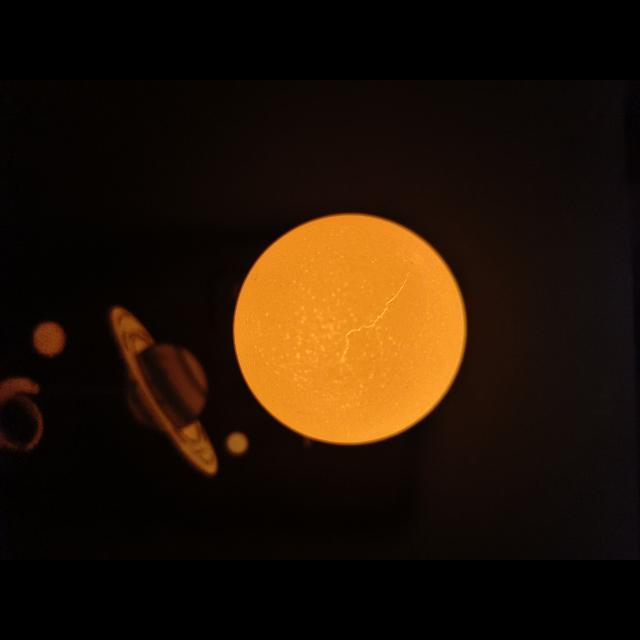AA - Premium: (234, 214, 466, 444)
